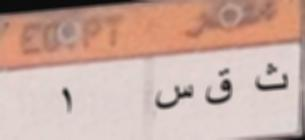1: (53, 82, 79, 119)
qaaf: (201, 66, 236, 114)
seen: (152, 79, 195, 112)
thaa: (250, 59, 294, 100)
